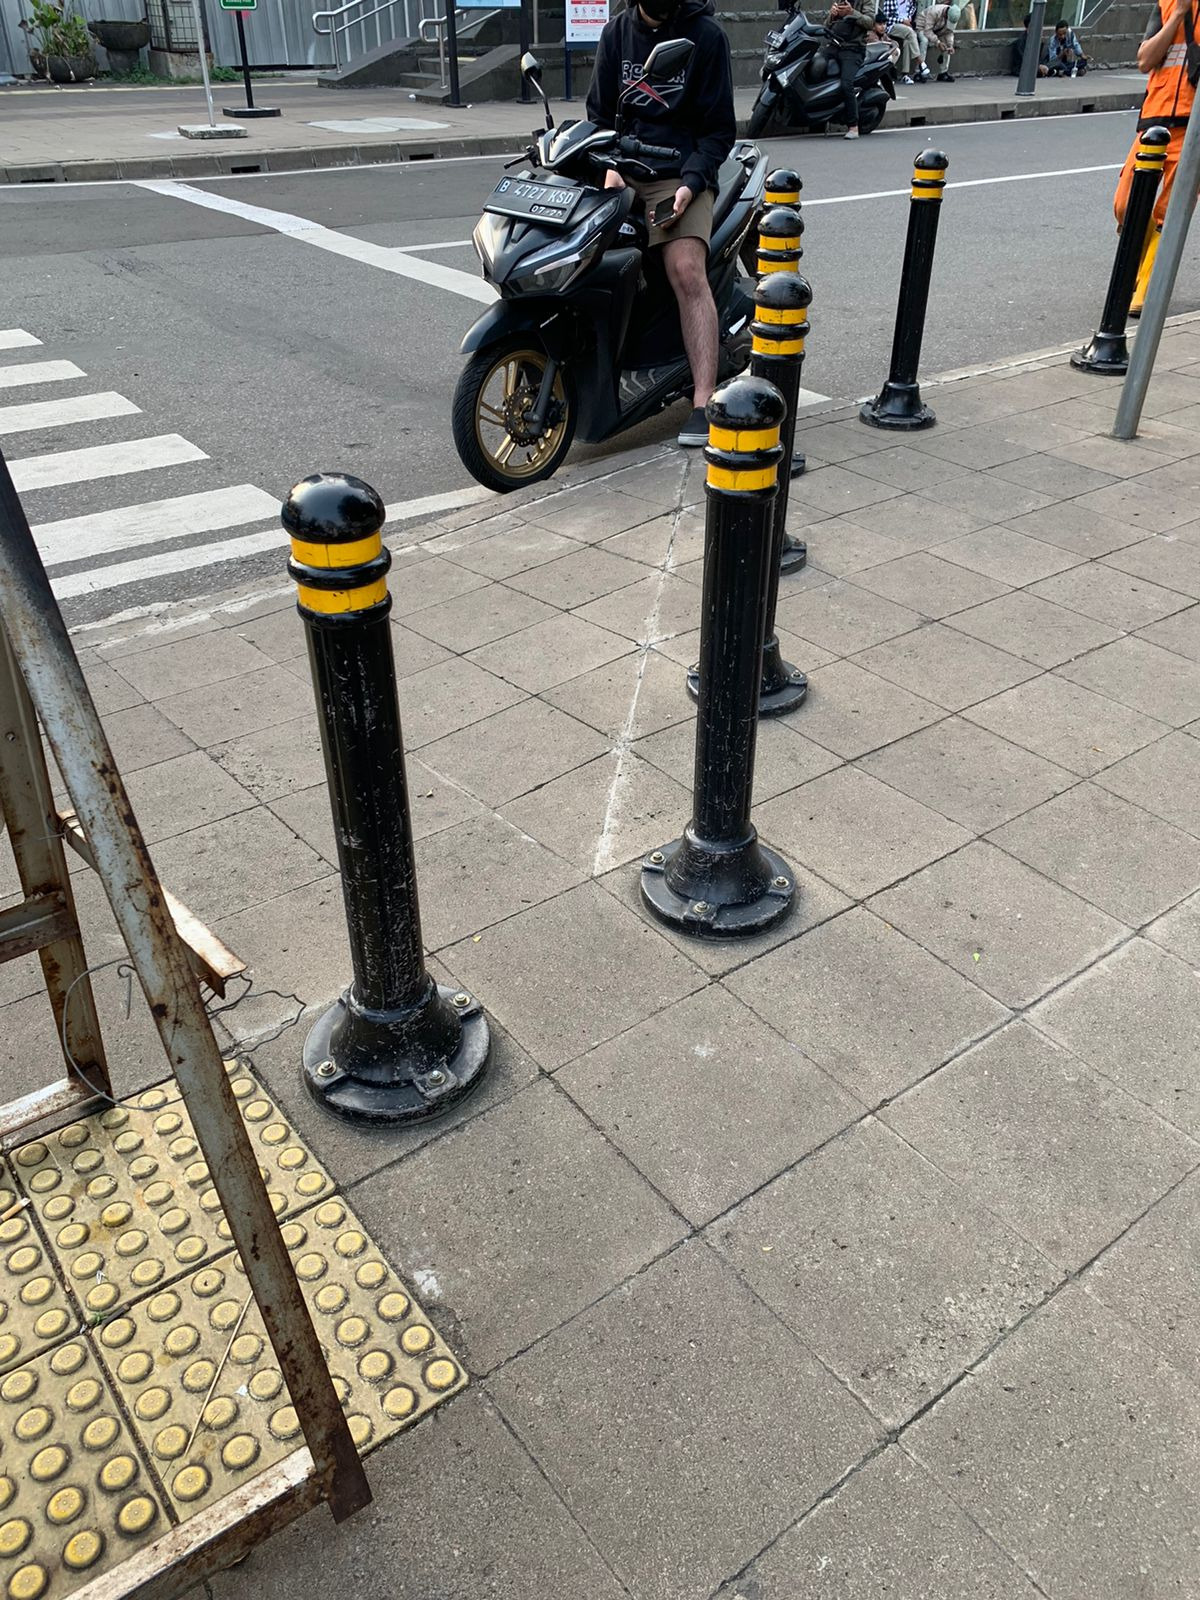bollard: (262, 484, 524, 1116), (661, 377, 805, 956), (855, 146, 973, 455)
zebracross: (6, 306, 265, 576)
